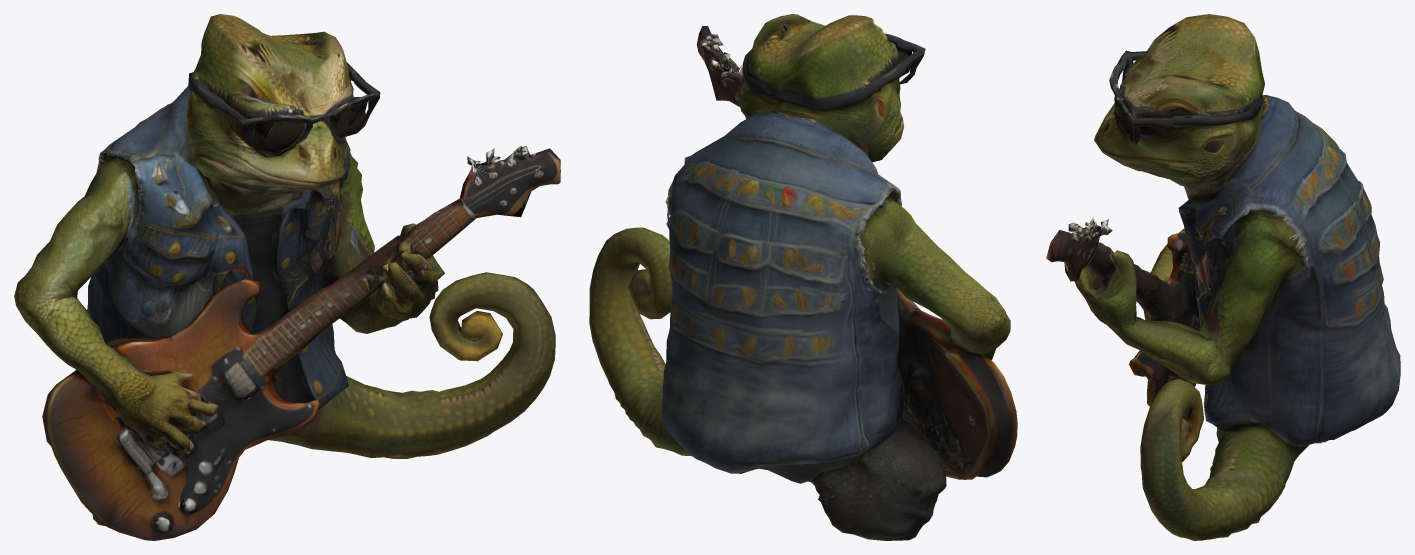
Rendered from cAMALEON2.glb.
3 renders of one model, left to right at view 1: azimuth 30°, elevation 25°; view 2: azimuth 150°, elevation 25°; view 3: azimuth 270°, elevation 25°, orthographic. The views are drawn at different scales.
Bounding box in the file's own units: 2 × 1.98 × 1.41.
Materials: 1 (1 with a texture image).
